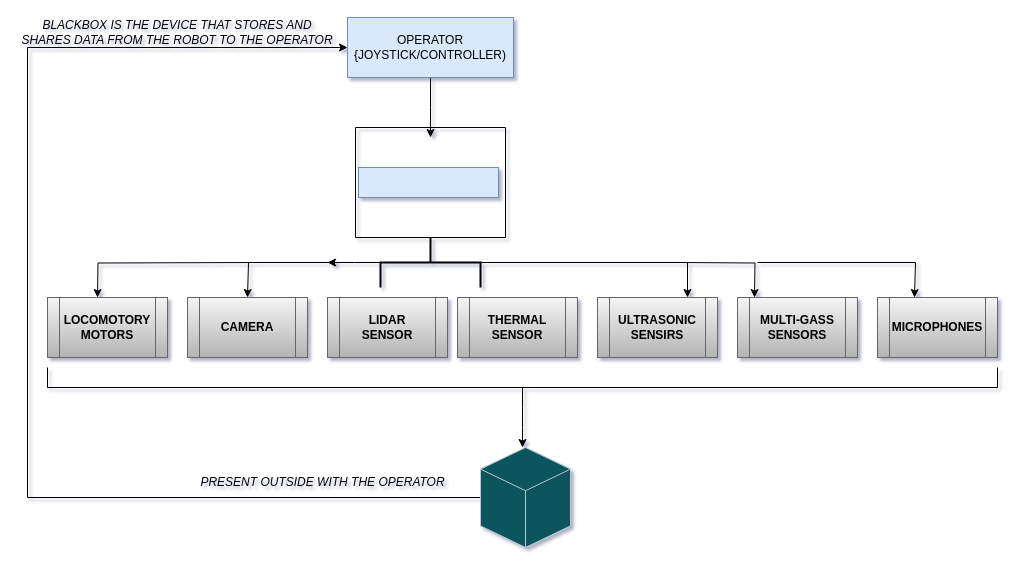
The diagram is 1021 pixels wide and 571 high, and some of its shapes have lost their labels. The box of each missing label's shape, as (x1, y1, x2, y2) in pixels:
BLACKBOX: (480, 446, 570, 548)
SNAKE LIKE ROBOT: (358, 166, 498, 198)
